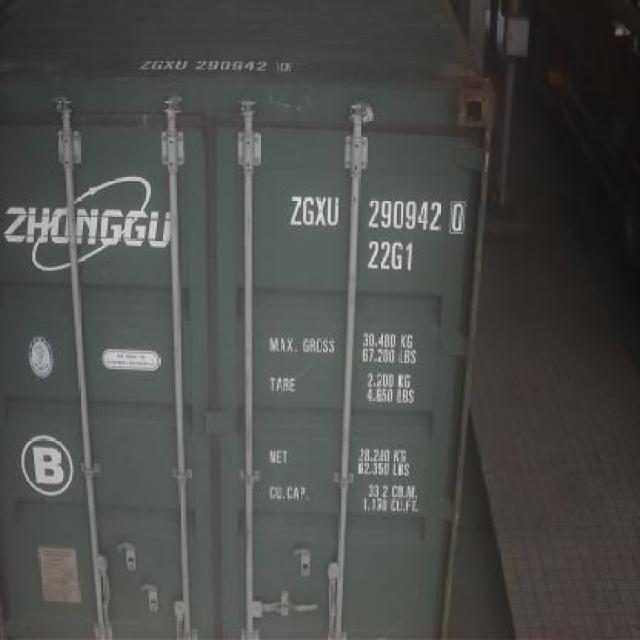ISO: (368, 237, 416, 270)
container_number: (296, 200, 467, 230)
